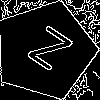Z: (20, 25, 74, 80)
